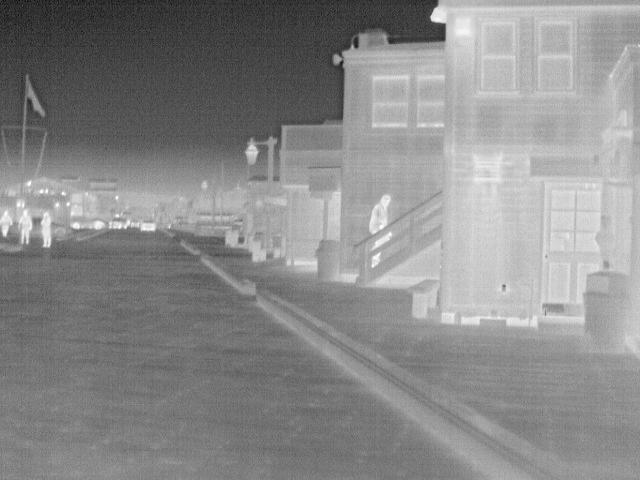car: (68, 214, 107, 230), (49, 220, 73, 240), (107, 216, 130, 228), (141, 218, 158, 234)
person: (366, 193, 393, 239), (36, 206, 54, 250), (17, 207, 35, 247), (1, 209, 15, 239)
